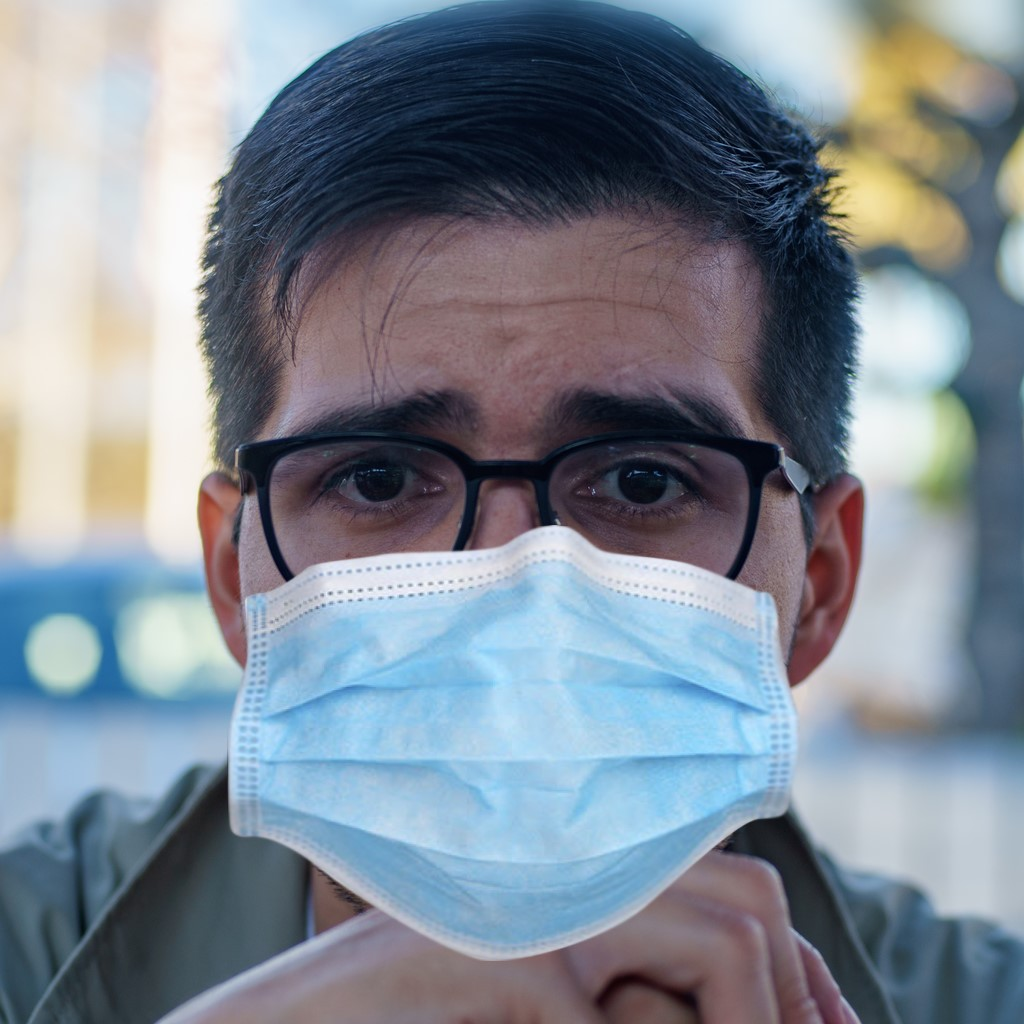con_mascara: (233, 178, 796, 923)
